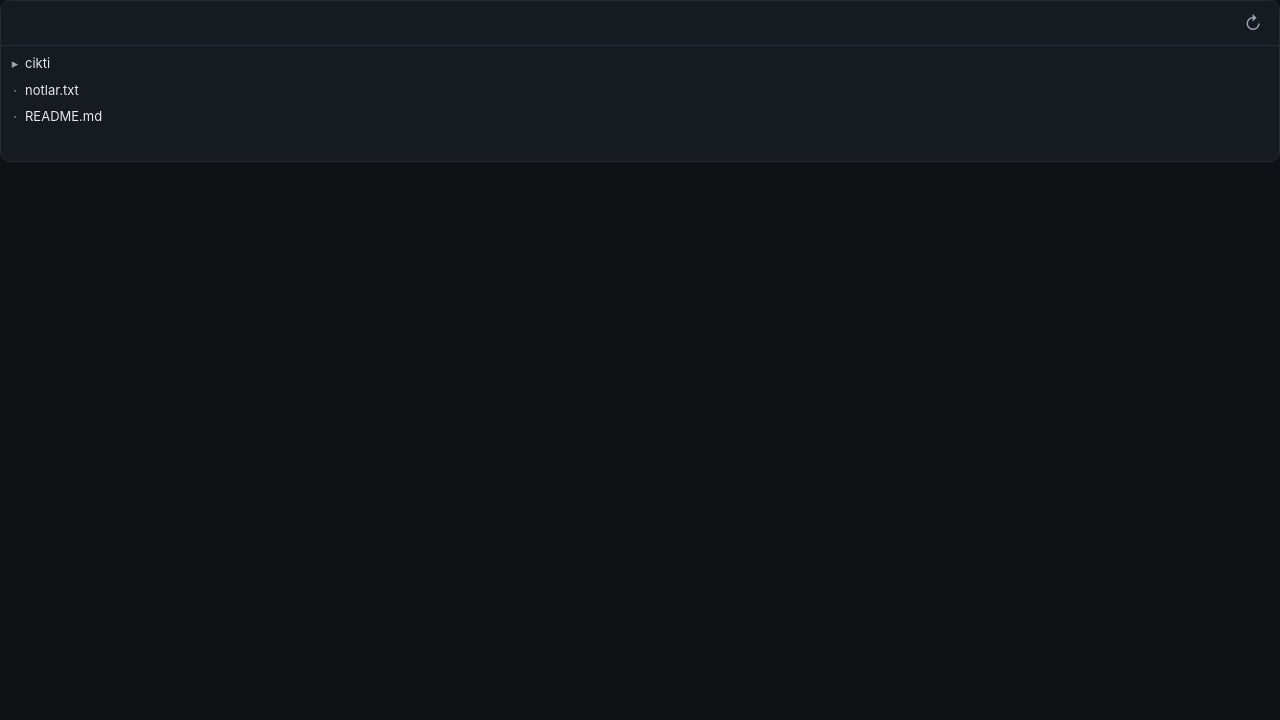
FilesPanel room › wide: a click previews beside the tree; Büyüt and a double click open the large preview
Click the button "· README.md": x=64, y=116 [1,103,1279,129]
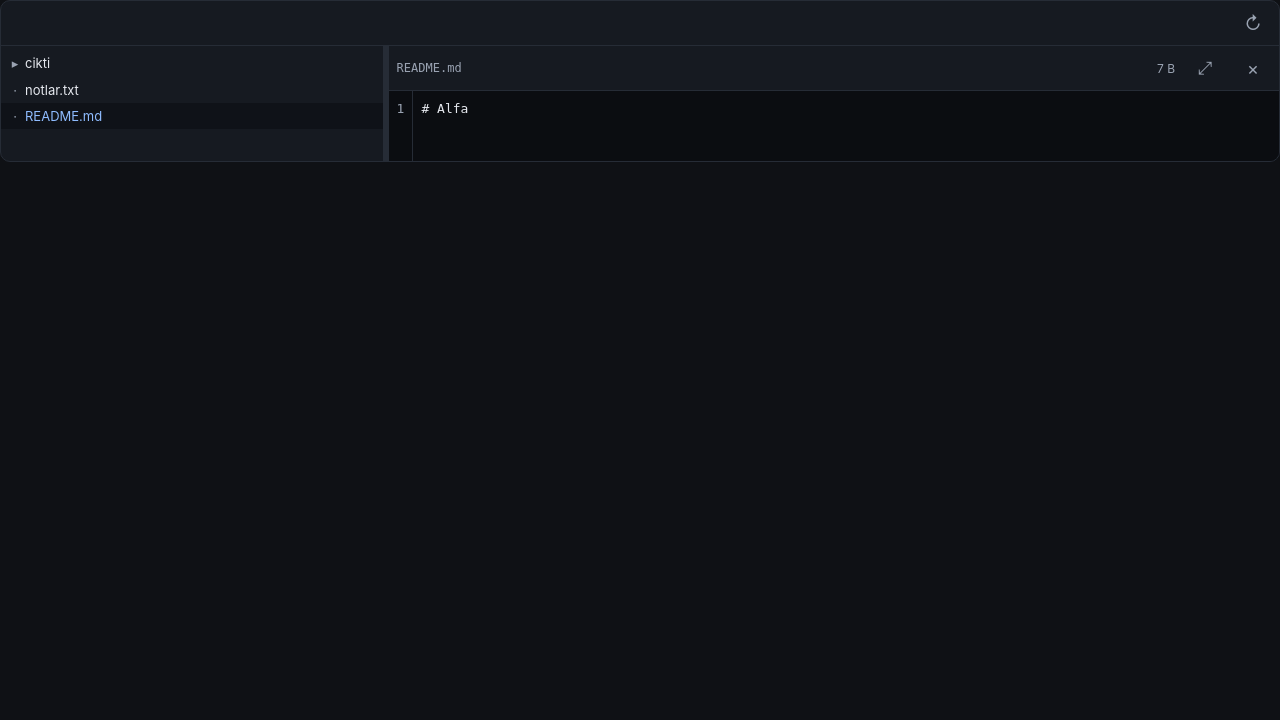
Click the button named "Büyüt": x=1205, y=68 [1183,46,1227,90]
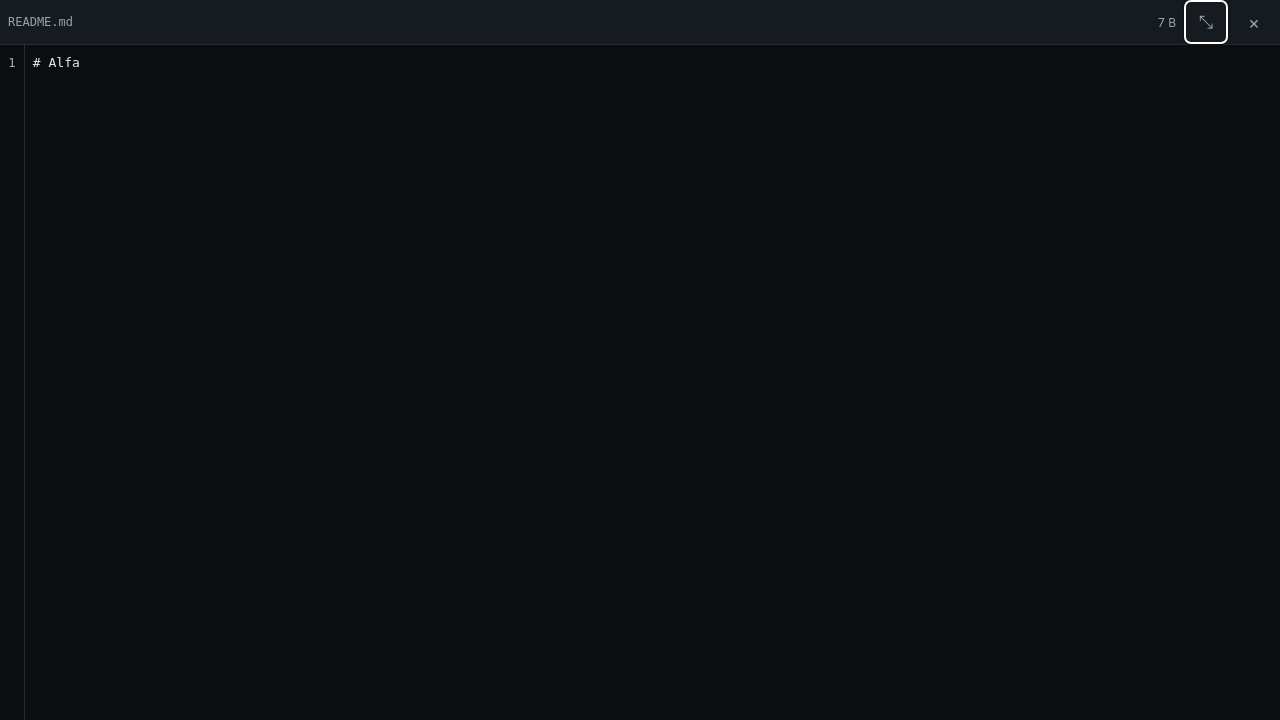
Click the button named "Küçült": x=1206, y=22 [1184,0,1228,44]
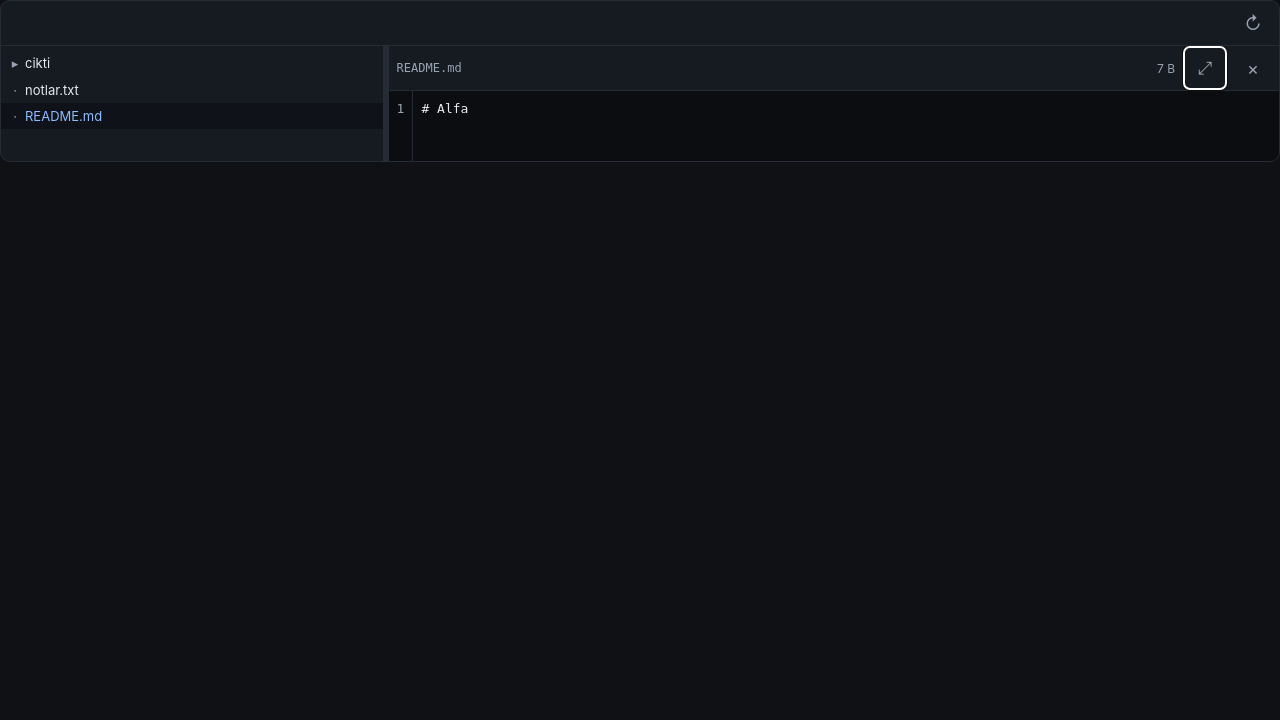
Double-click the button "· notlar.txt": x=52, y=90 [1,76,383,103]
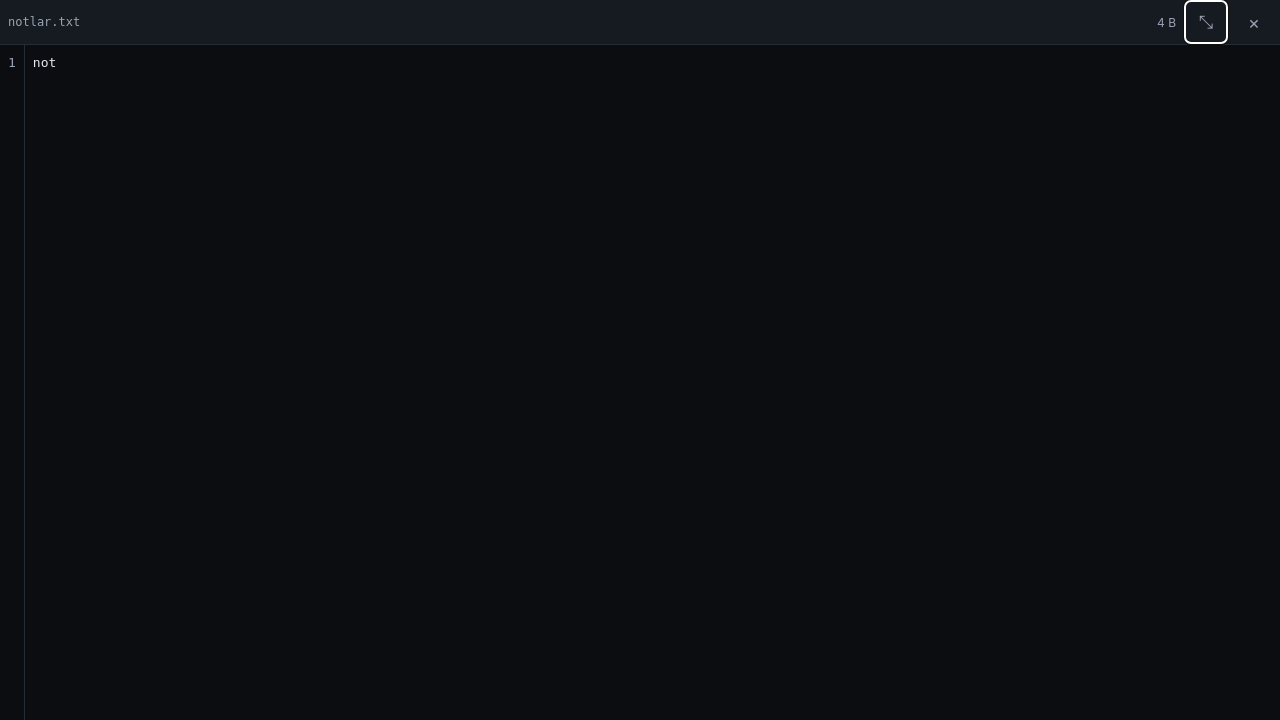
Check: the text "not" is shown, box [33,55,56,70]
